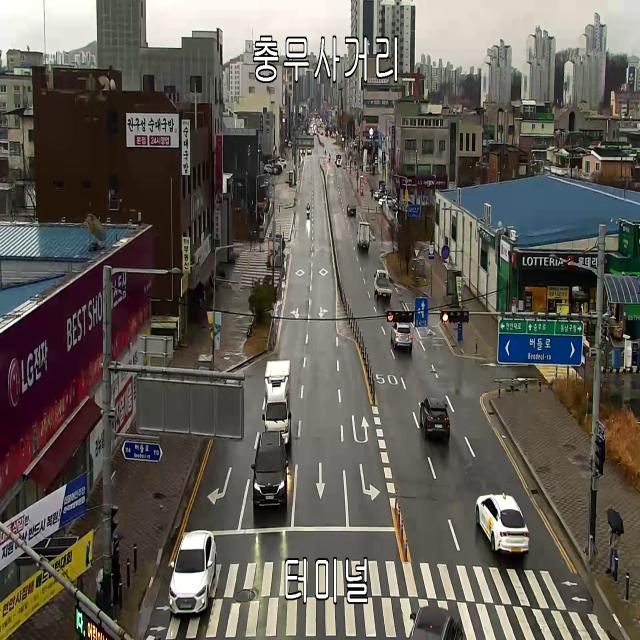Car: (168, 530, 217, 614), (475, 493, 530, 552), (251, 430, 289, 508), (409, 605, 464, 640), (420, 398, 450, 440), (390, 322, 413, 352), (378, 195, 396, 207), (262, 164, 278, 174), (376, 192, 388, 202), (373, 188, 385, 197), (347, 205, 356, 216), (277, 159, 286, 169), (307, 148, 312, 154), (301, 148, 305, 155), (337, 159, 341, 166), (374, 156, 377, 164), (313, 130, 316, 135), (321, 131, 324, 135)
Motorcycle: (305, 200, 312, 222)
Truck: (263, 356, 293, 439), (374, 270, 392, 299), (357, 222, 370, 249)
